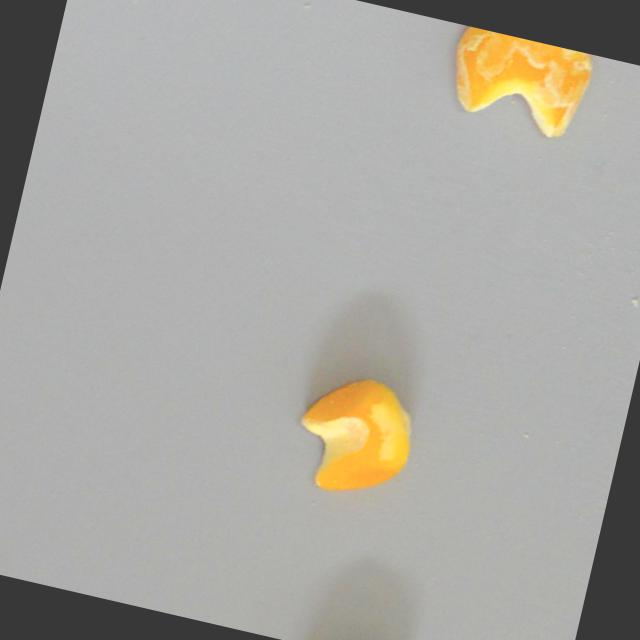pelicula: (287, 366, 425, 511), (437, 24, 595, 147)
